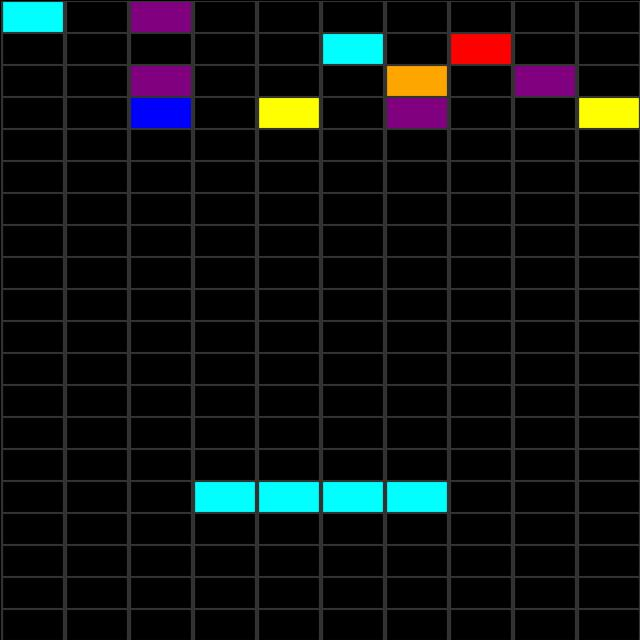Tetrimino_Z: (194, 480, 446, 512)
